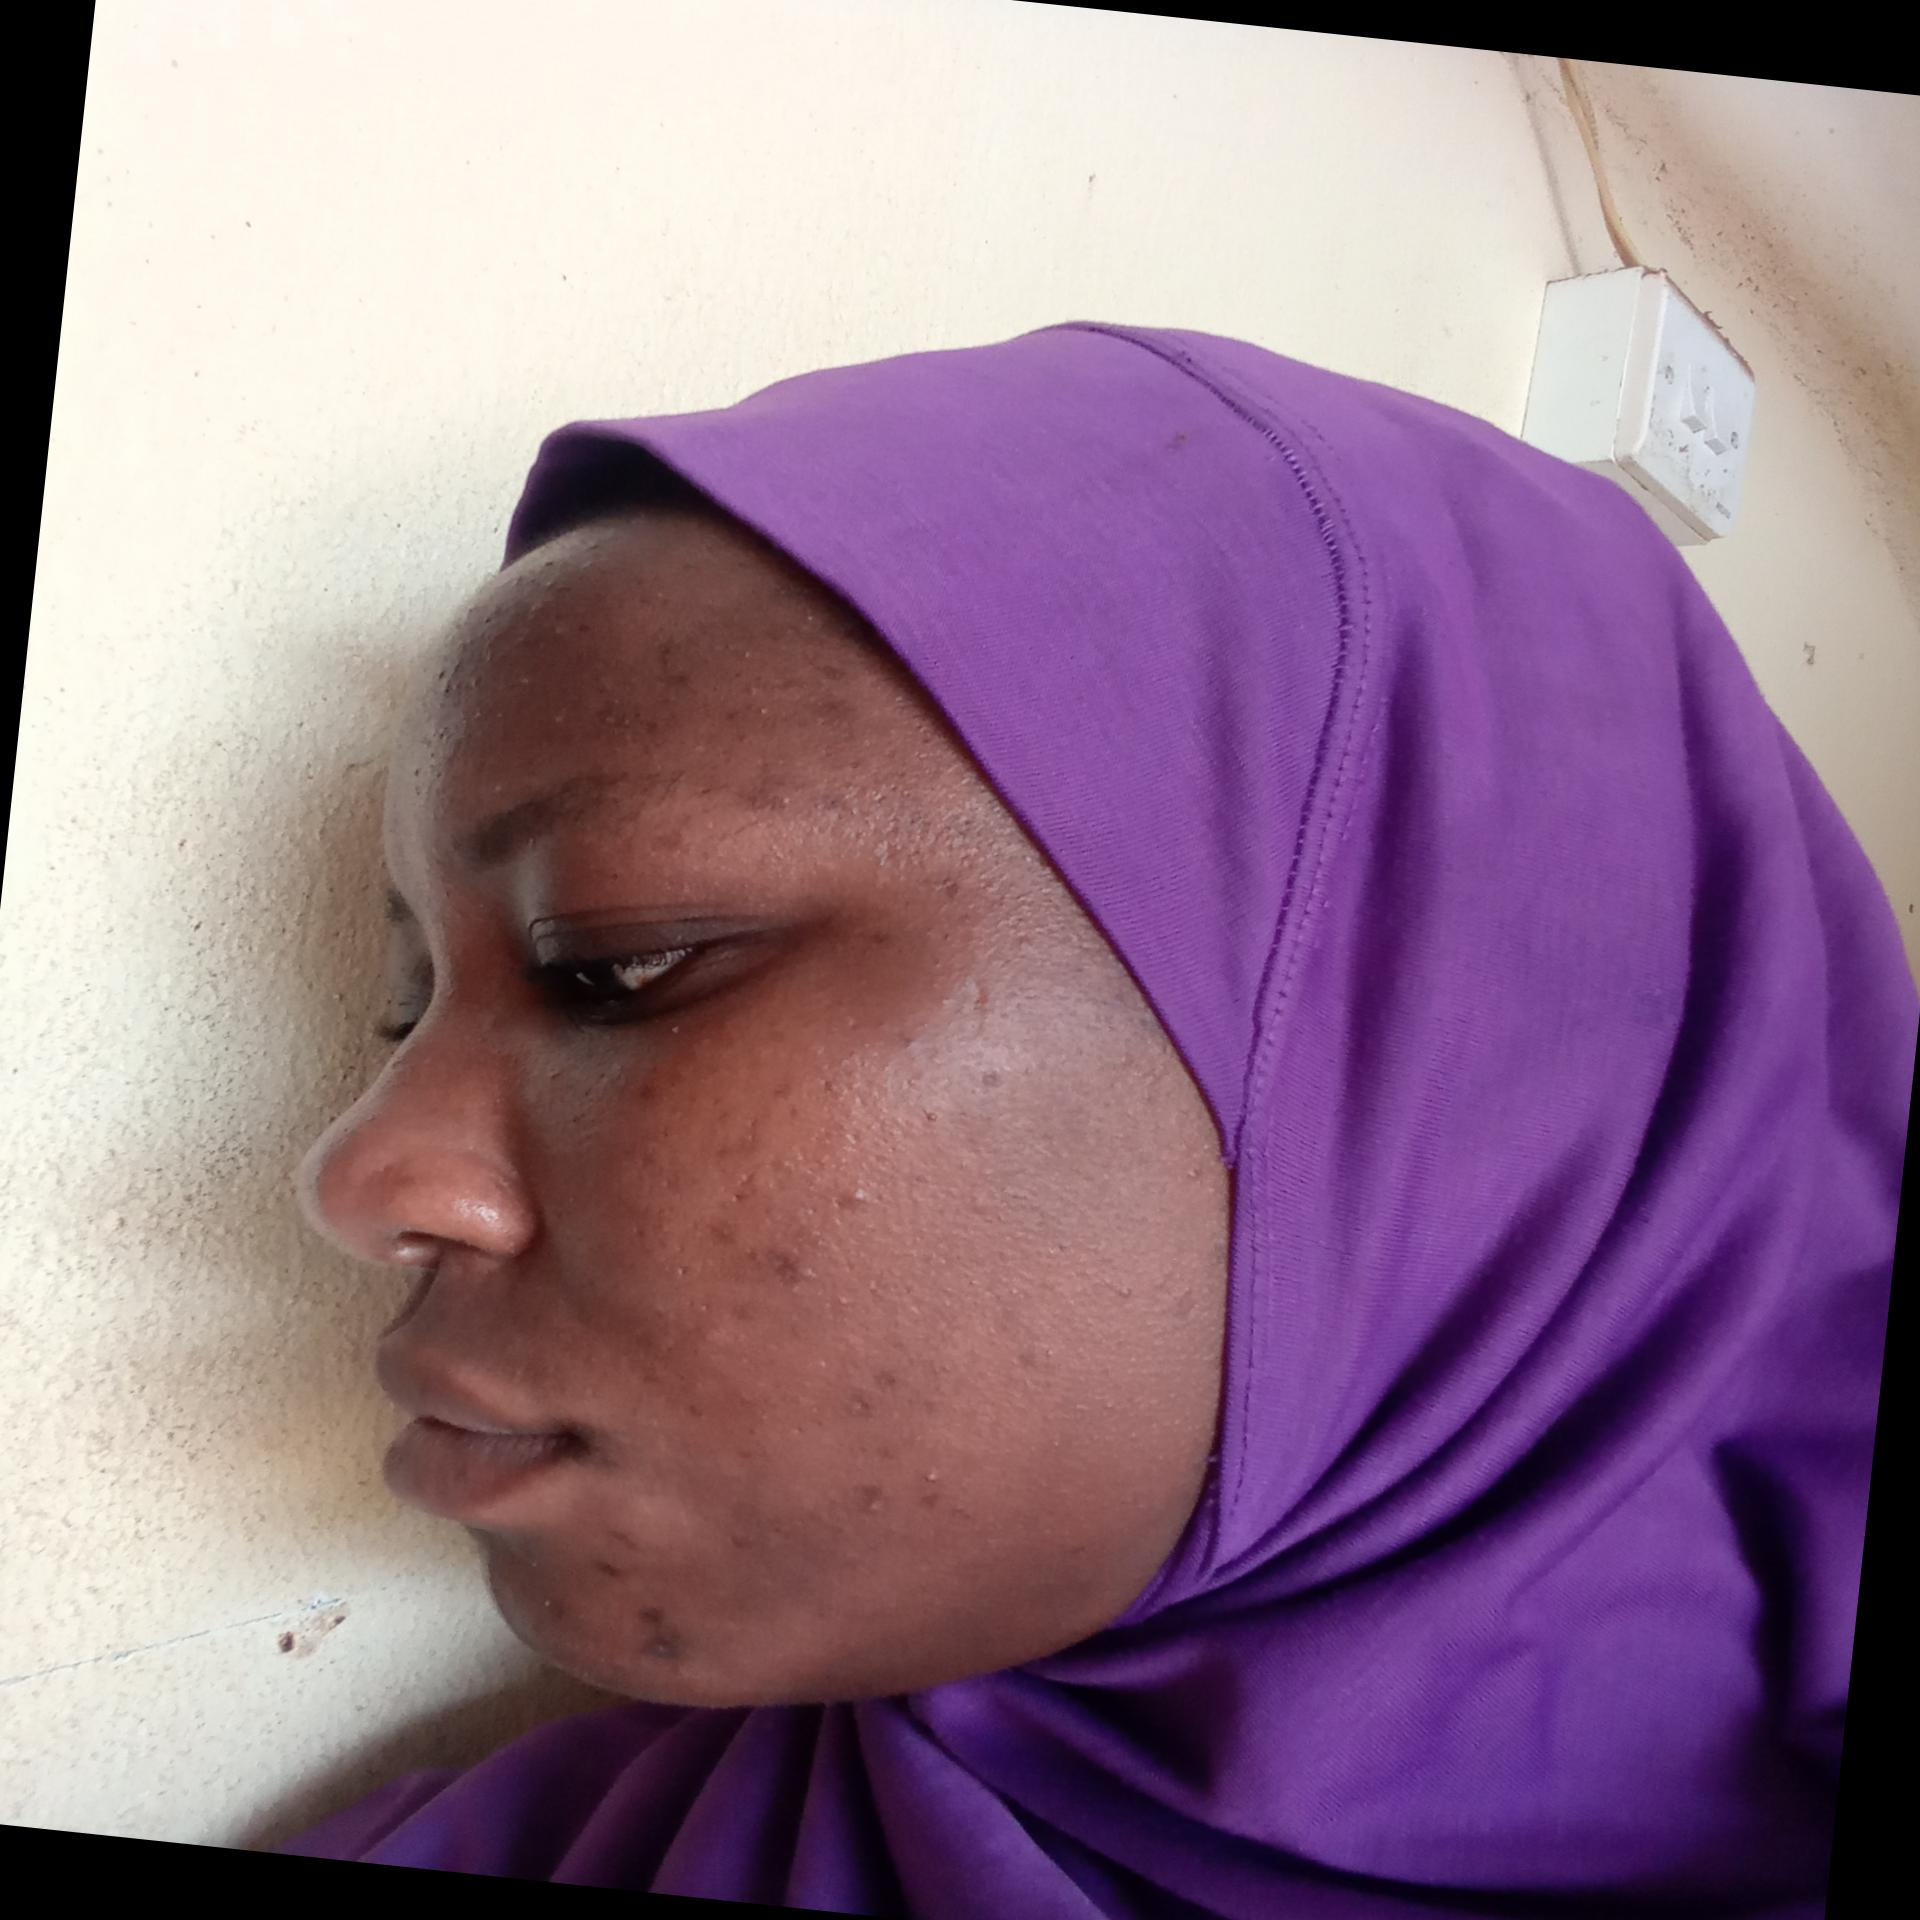Acne: (724, 640, 791, 723), (631, 628, 705, 698), (626, 1605, 707, 1669), (719, 1108, 784, 1171), (753, 1245, 828, 1294), (550, 696, 629, 742), (835, 1162, 897, 1217), (536, 556, 622, 593), (709, 1178, 784, 1215), (585, 1540, 638, 1593), (1007, 1342, 1071, 1384), (904, 1461, 955, 1512), (849, 1477, 900, 1524), (520, 1588, 573, 1632), (438, 665, 494, 702), (526, 617, 584, 652), (1169, 1157, 1224, 1194), (448, 700, 513, 730), (461, 603, 506, 645), (832, 1384, 884, 1419), (791, 605, 846, 638), (702, 1213, 749, 1250), (482, 775, 529, 812), (816, 1073, 863, 1106), (911, 1097, 955, 1131), (971, 1065, 1016, 1097), (760, 1074, 802, 1104), (721, 1528, 765, 1556), (934, 879, 971, 907), (501, 666, 543, 689)
